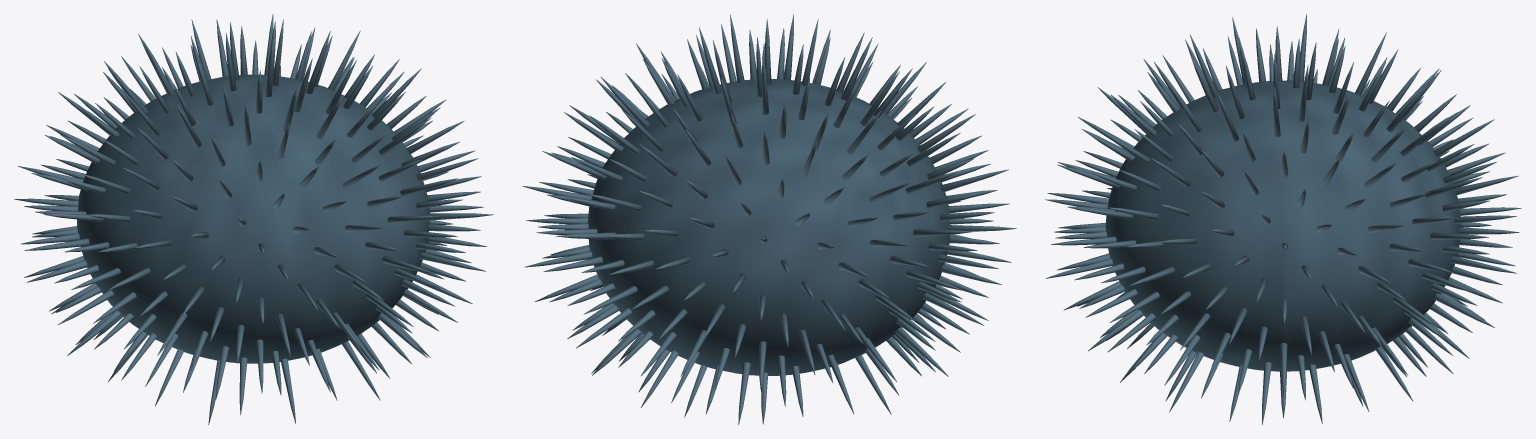
File: urchin-desktop.glb
The picture shows the model from 3 angles, left to right: view 1: azimuth 30°, elevation 25°; view 2: azimuth 150°, elevation 25°; view 3: azimuth 270°, elevation 25°; orthographic projection. The views are drawn at different scales.
Visible parts, largest first — view 1: porous-test, spine; view 2: porous-test, spine; view 3: porous-test, spine.
Boxes of the visible parts, x1,y1,x2,y2 form: porous-test: (77, 74, 429, 363); spine: (14, 14, 493, 424); porous-test: (587, 79, 950, 375); spine: (522, 14, 1016, 424); porous-test: (1105, 80, 1461, 371); spine: (1045, 14, 1521, 424).
Bounding box in the file's own units: 0.5997 × 0.4483 × 0.5888.
